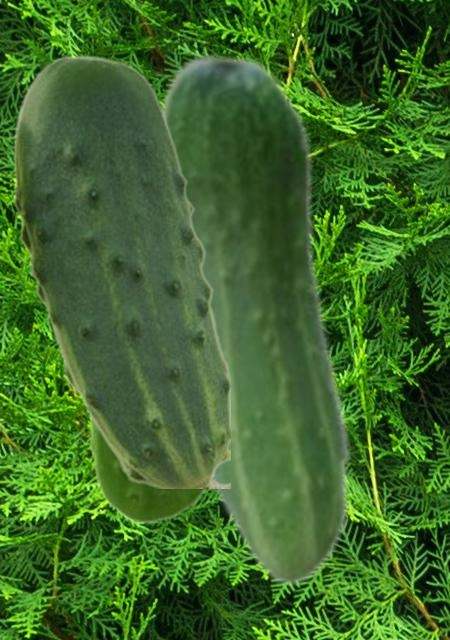cucumber: (160, 51, 352, 586), (13, 54, 229, 487), (89, 418, 208, 523)
